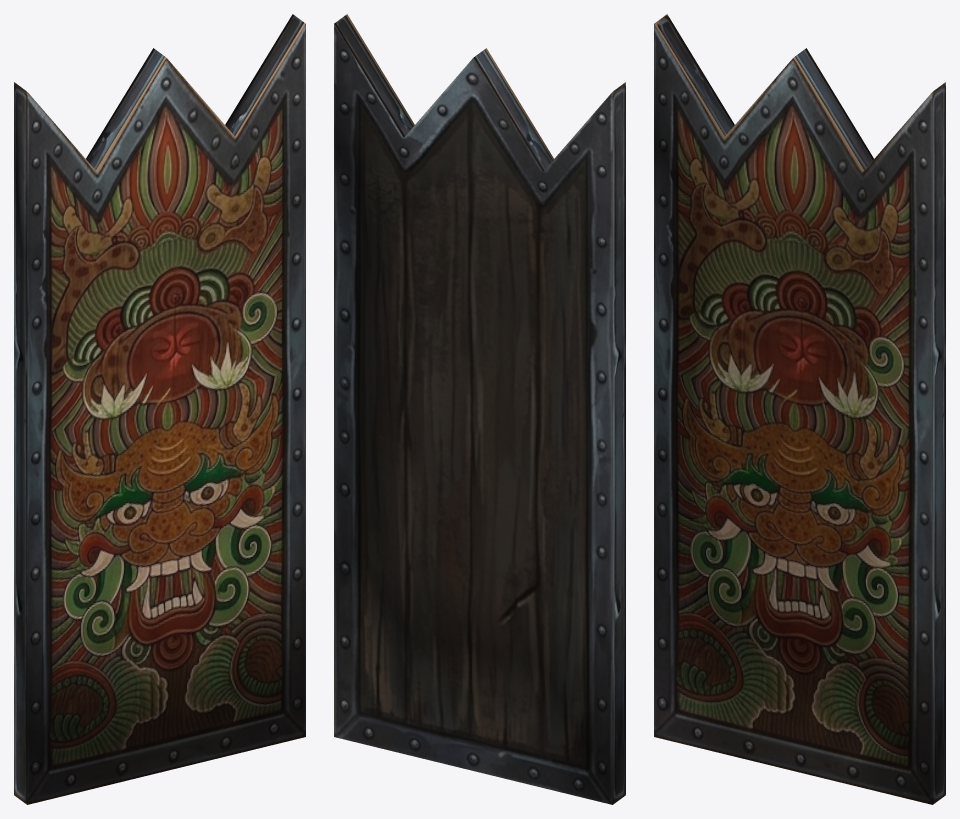
Rendered from shield_rectangle.glb.
3 renders of one model, left to right at view 1: azimuth 30°, elevation 25°; view 2: azimuth 150°, elevation 25°; view 3: azimuth 330°, elevation 25°, orthographic.
Visible parts, largest first — view 1: Plane.001; view 2: Plane.001; view 3: Plane.001.
Part boxes in pixels (box(x1,y1,x2,y2)): Plane.001: box(14, 14, 305, 804); Plane.001: box(334, 14, 625, 804); Plane.001: box(654, 14, 945, 804).
Bounding box in the file's own units: 1.84 × 4.5 × 0.1506.
1 material, 1 textured.
